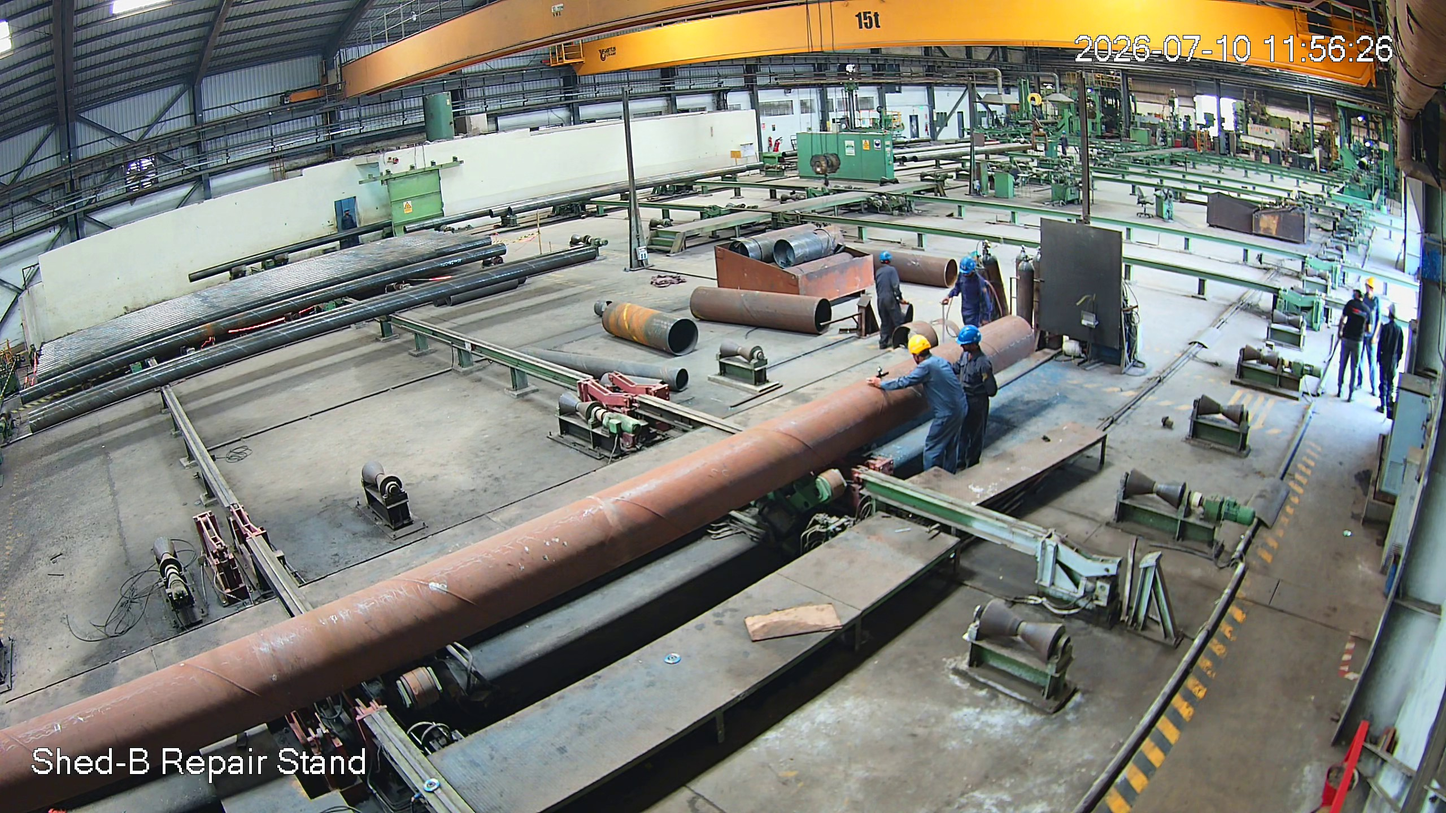Helmet: (905, 329, 927, 375), (957, 255, 984, 284), (878, 249, 896, 279), (1363, 276, 1384, 300)
Person: (890, 331, 947, 478), (949, 323, 1001, 471), (950, 257, 998, 337), (873, 250, 911, 348), (1358, 278, 1385, 398), (1346, 283, 1370, 409), (1382, 302, 1406, 420)
